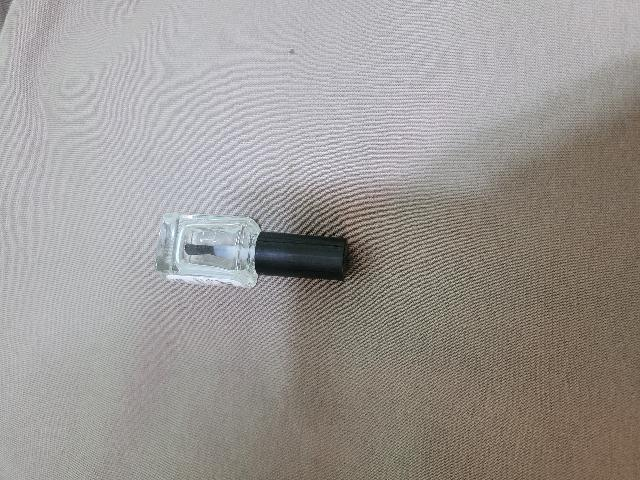Cam: (156, 210, 259, 289)
Plastik: (255, 229, 349, 279)
